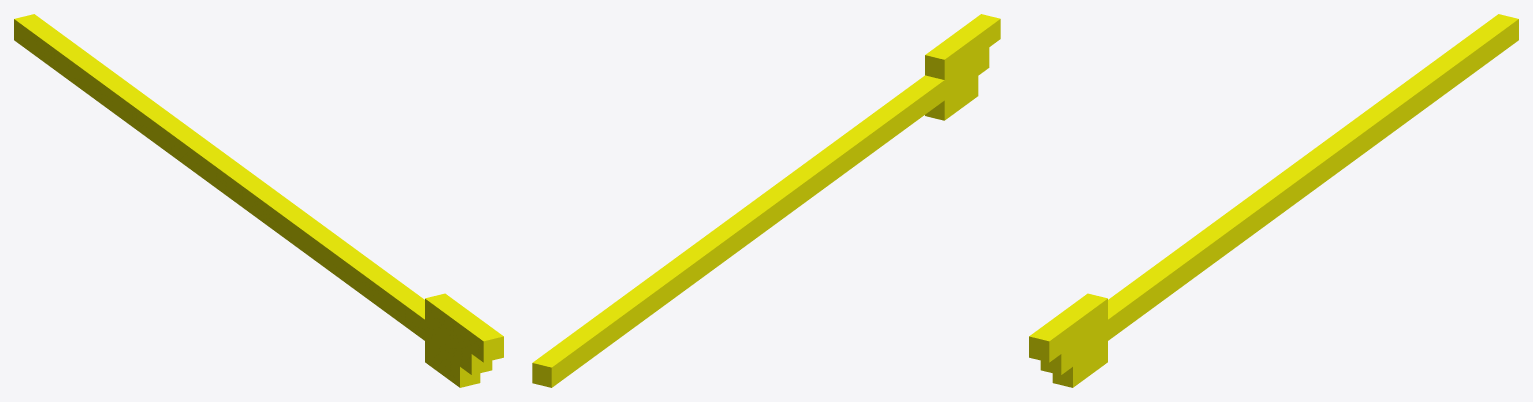
Rendered from voxel-knights-spear.glb.
3 renders of one model, left to right at view 1: azimuth 30°, elevation 25°; view 2: azimuth 150°, elevation 25°; view 3: azimuth 330°, elevation 25°, orthographic. The views are drawn at different scales.
Parts seen in each view (by area): view 1: VS_Knights_Props_Spear_001; view 2: VS_Knights_Props_Spear_001; view 3: VS_Knights_Props_Spear_001.
Boxes of the visible parts, left/top/right/bottom form: VS_Knights_Props_Spear_001: left=14, top=14, right=503, bottom=387; VS_Knights_Props_Spear_001: left=532, top=14, right=1000, bottom=387; VS_Knights_Props_Spear_001: left=1029, top=14, right=1518, bottom=387.
Bounding box in the file's own units: 0.1001 × 0.2998 × 4.
